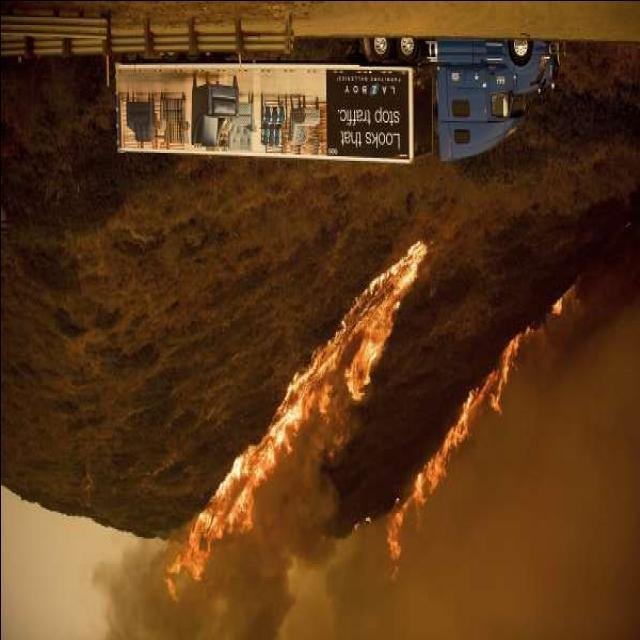Fire: (152, 242, 548, 590)
